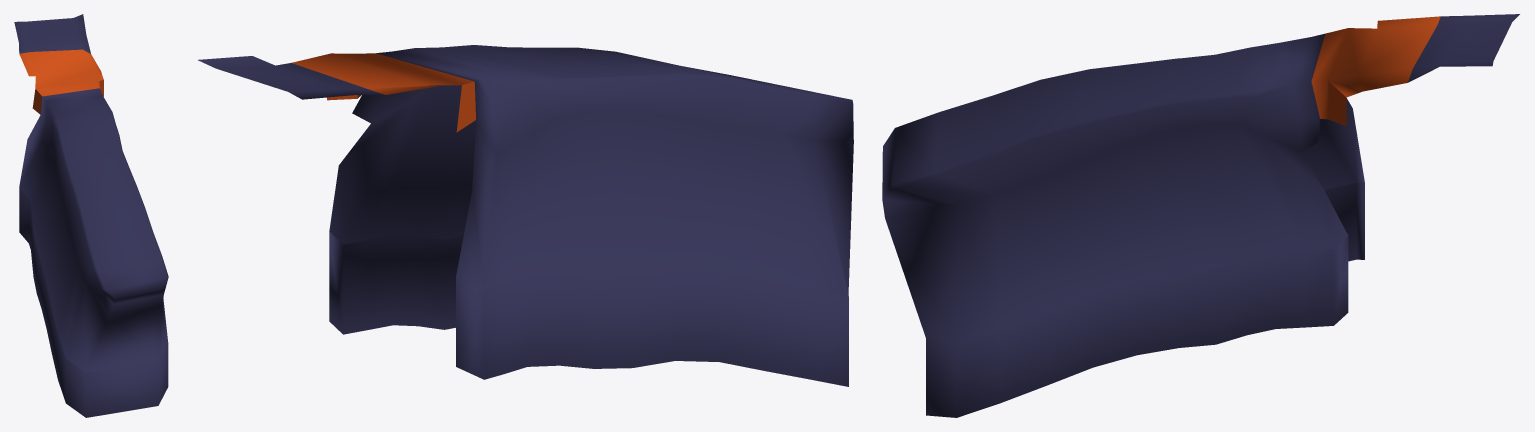
Rendered from NewEndLapRampV2.fbx.
The picture shows the model from 3 angles, left to right: view 1: azimuth 30°, elevation 25°; view 2: azimuth 150°, elevation 25°; view 3: azimuth 270°, elevation 25°; orthographic projection. The views are drawn at different scales.
Parts seen in each view (by area): view 1: EndRamp; view 2: EndRamp; view 3: EndRamp.
Part boxes in pixels (box(x1,y1,x2,y2)): EndRamp: box(14, 14, 168, 417); EndRamp: box(198, 45, 853, 386); EndRamp: box(882, 14, 1519, 417).
Bounding box in the file's own units: 932 × 1294 × 1756.
